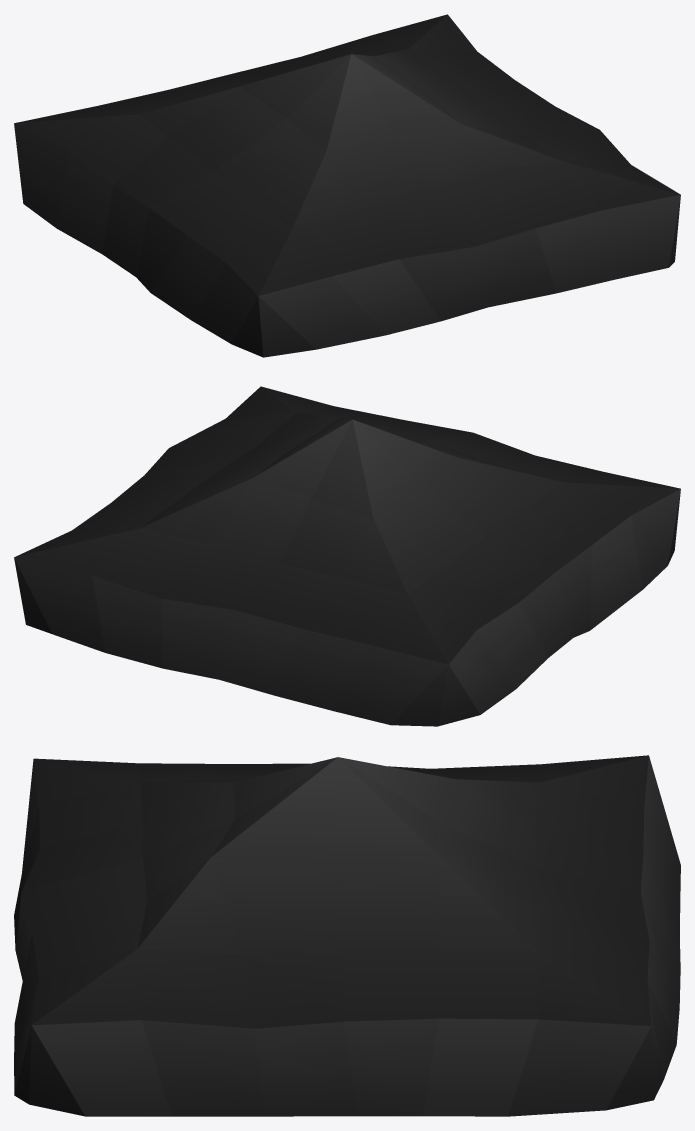
Rendered from SM_Market_Triangular_Fabric_Roof_Black.fbx.
The picture shows the model from 3 angles, top to bottom: view 1: azimuth 30°, elevation 25°; view 2: azimuth 150°, elevation 25°; view 3: azimuth 270°, elevation 25°; orthographic projection. The views are drawn at different scales.
Parts seen in each view (by area): view 1: Market_Triangular_Fabric_Roof_Black_Mash; view 2: Market_Triangular_Fabric_Roof_Black_Mash; view 3: Market_Triangular_Fabric_Roof_Black_Mash.
Part boxes in pixels (x1=…): Market_Triangular_Fabric_Roof_Black_Mash: x1=14, y1=14, x2=680, y2=357; Market_Triangular_Fabric_Roof_Black_Mash: x1=14, y1=386, x2=680, y2=726; Market_Triangular_Fabric_Roof_Black_Mash: x1=14, y1=755, x2=680, y2=1116.
Size of the model in its own units: 3.76 by 1.36 by 3.67.
